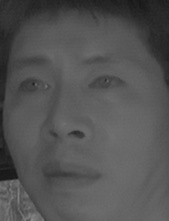eye: (82, 69, 128, 96), (11, 73, 53, 101)
mouth: (39, 155, 101, 194)
